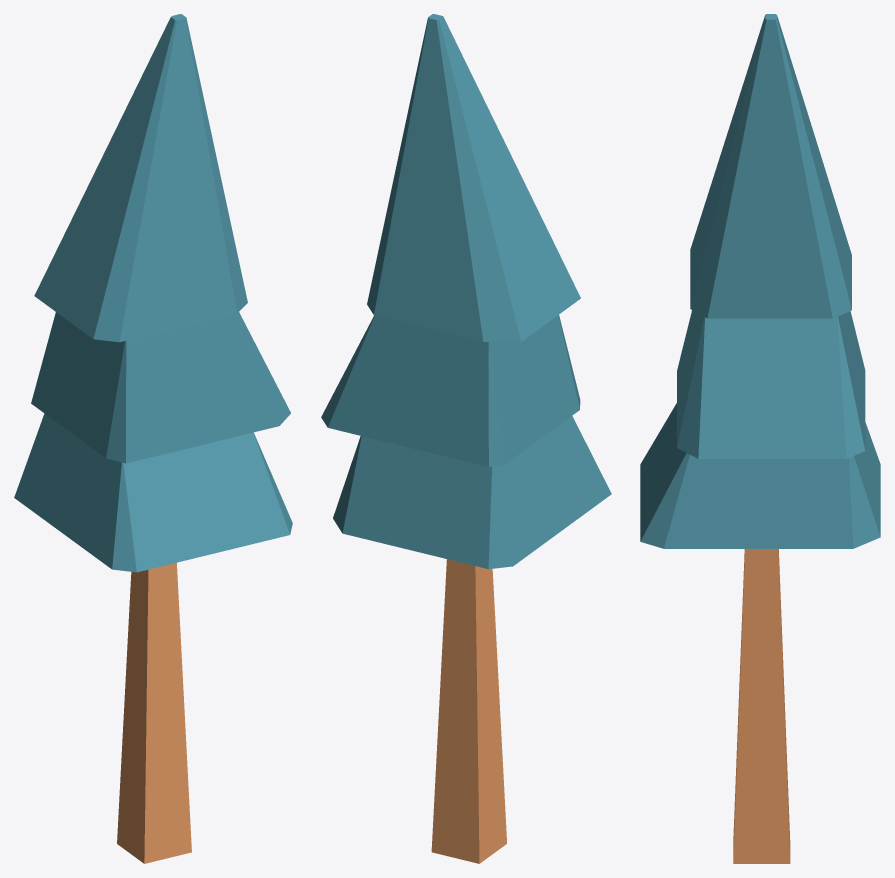
File: tree_pine_shortSquare.fbx
The picture shows the model from 3 angles, left to right: view 1: azimuth 30°, elevation 25°; view 2: azimuth 150°, elevation 25°; view 3: azimuth 270°, elevation 25°; orthographic projection. The views are drawn at different scales.
Visible parts, largest first — view 1: tree_pine_shortSquare; view 2: tree_pine_shortSquare; view 3: tree_pine_shortSquare.
Boxes of the visible parts, box(x1,y1,x2,y2) form: tree_pine_shortSquare: box(14, 14, 292, 863); tree_pine_shortSquare: box(321, 14, 611, 863); tree_pine_shortSquare: box(640, 14, 880, 863).
Bounding box in the file's own units: 3.86 × 15.3 × 3.92.
